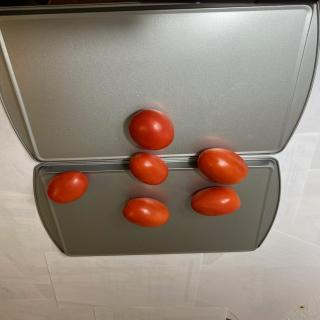Tomato: (197, 148, 249, 185), (128, 109, 174, 150), (191, 186, 241, 216), (122, 197, 170, 227), (46, 170, 88, 203), (129, 152, 169, 185)
